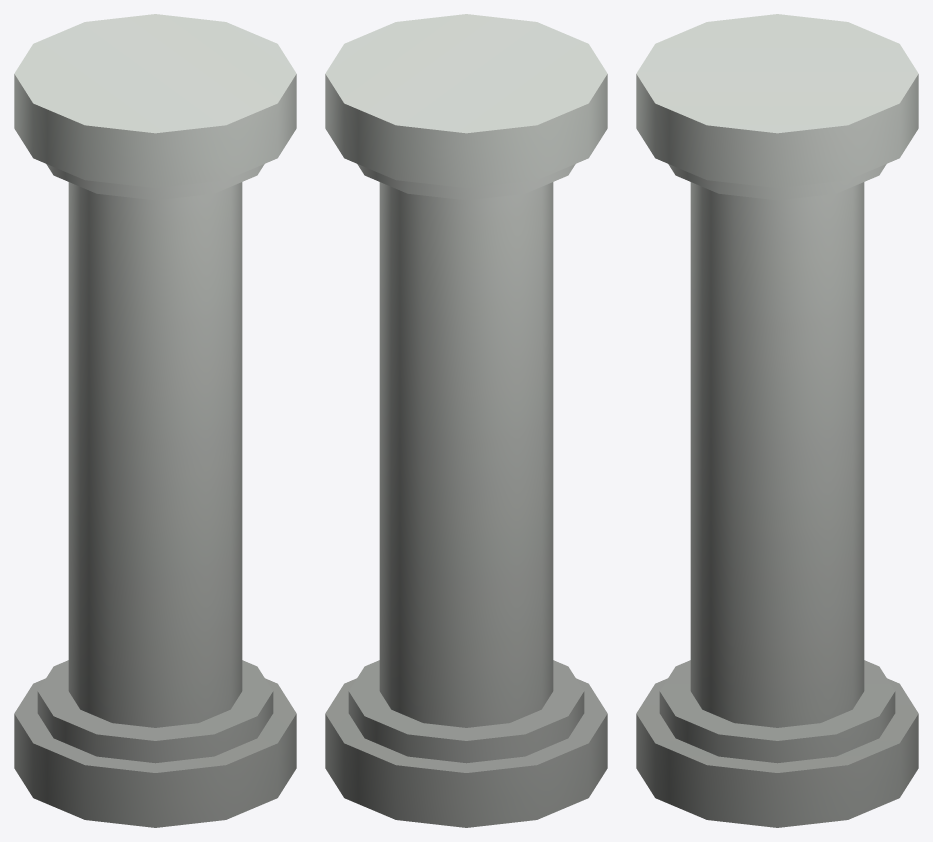
File: Pillar_round.fbx
3 views of the same model, side by side, from view 1: azimuth 30°, elevation 25°; view 2: azimuth 150°, elevation 25°; view 3: azimuth 270°, elevation 25° (orthographic).
Parts seen in each view (by area): view 1: Pillar_round; view 2: Pillar_round; view 3: Pillar_round.
Boxes of the visible parts, bbox=[...] form: Pillar_round: bbox=[14, 14, 296, 827]; Pillar_round: bbox=[325, 14, 607, 827]; Pillar_round: bbox=[636, 14, 918, 827].
Bounding box in the file's own units: 74.19 × 201 × 74.19.
